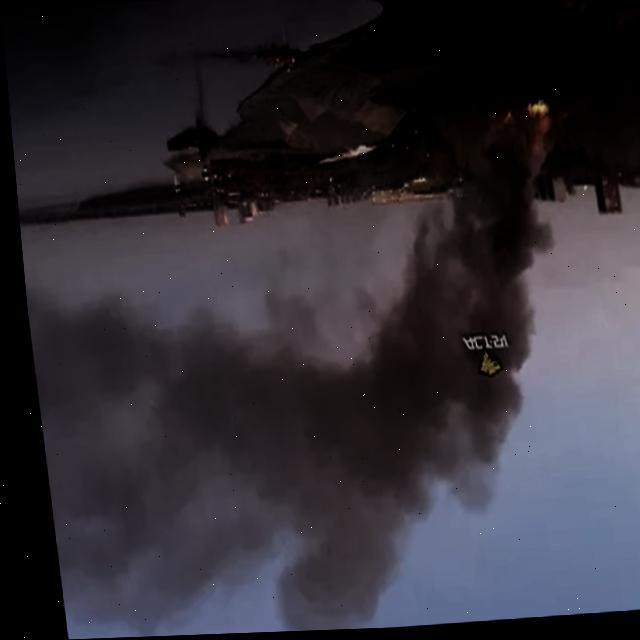Smoke: (219, 108, 606, 634)
